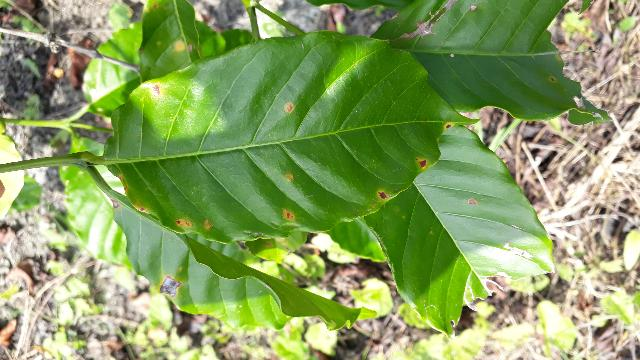rust_level_1: (103, 32, 476, 244)
